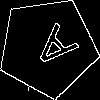A: (22, 22, 80, 79)
